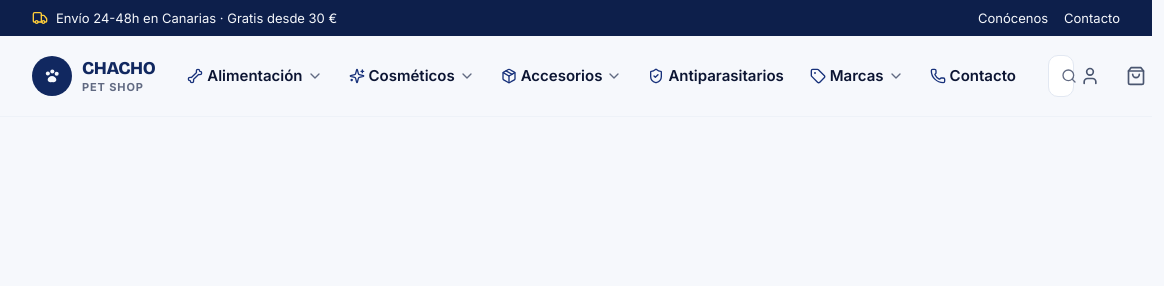
Test: el menú superior se anuncia y es navegable › una sección con hijos es un botón que declara si está abierto
Hover over the button "Alimentación" at (255, 76), box [175, 56, 335, 96]
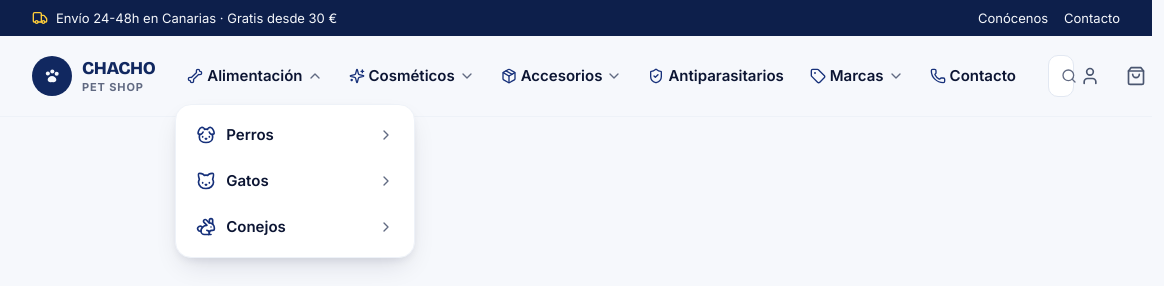
Expected: the button "Alimentación" is expanded, [175, 56, 335, 96]
